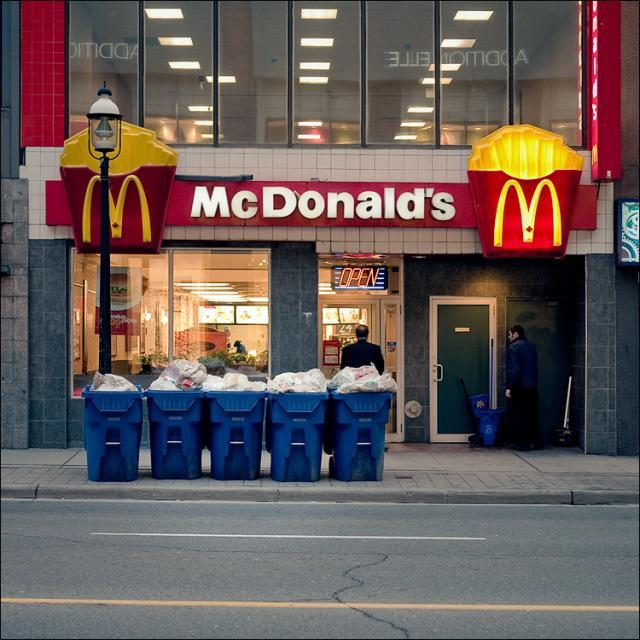bin: (73, 363, 142, 480), (325, 365, 388, 483), (270, 365, 319, 483), (208, 372, 261, 480), (148, 372, 202, 476)
